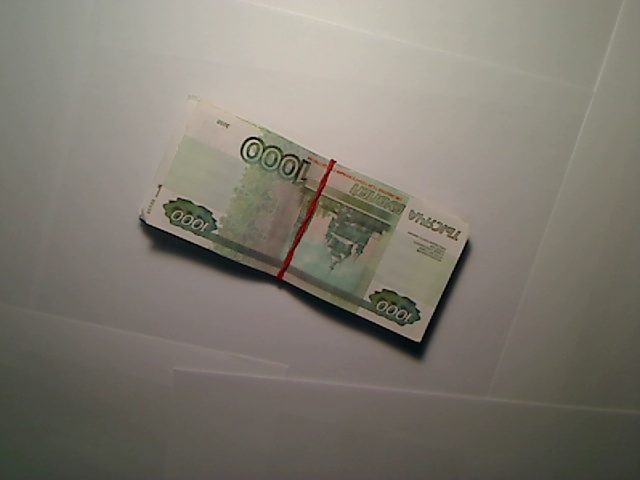banknotes: (136, 93, 473, 348)
